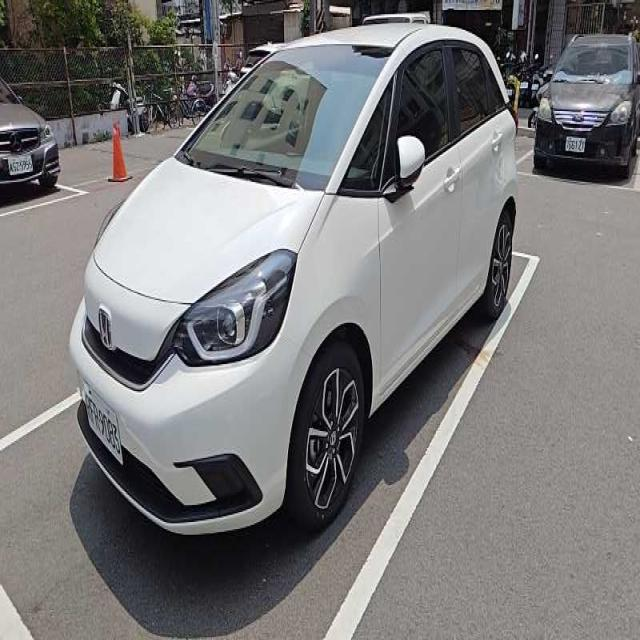license plate: (81, 380, 122, 465)
wheel: (292, 345, 366, 531)
